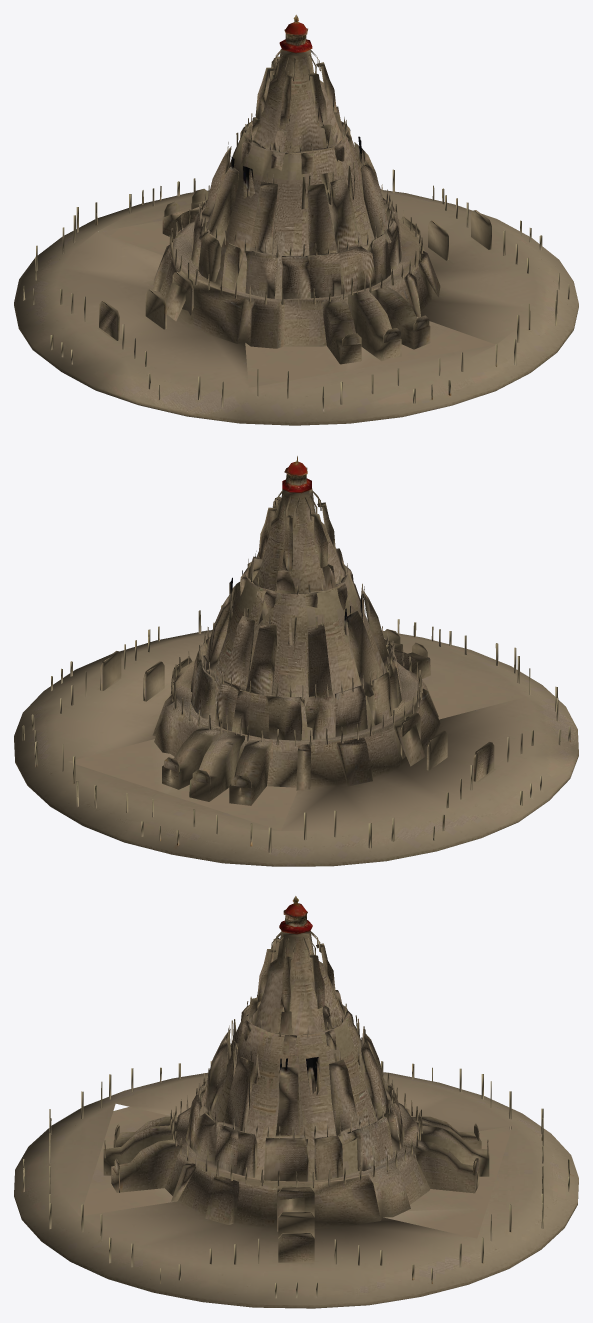
File: selected.fbx
3 views of the same model, one above another, from view 1: azimuth 30°, elevation 25°; view 2: azimuth 150°, elevation 25°; view 3: azimuth 270°, elevation 25° (orthographic).
Visible parts, largest first — view 1: tripo_node_a3ad8364-2494-4ff1-85e1-30c445998424; view 2: tripo_node_a3ad8364-2494-4ff1-85e1-30c445998424; view 3: tripo_node_a3ad8364-2494-4ff1-85e1-30c445998424.
Boxes of the visible parts, left/top/right/bottom form: tripo_node_a3ad8364-2494-4ff1-85e1-30c445998424: left=14, top=14, right=578, bottom=425; tripo_node_a3ad8364-2494-4ff1-85e1-30c445998424: left=14, top=456, right=578, bottom=866; tripo_node_a3ad8364-2494-4ff1-85e1-30c445998424: left=14, top=896, right=578, bottom=1308.
Size of the model in its own units: 100 by 57.34 by 100.
1 material, 1 textured.
